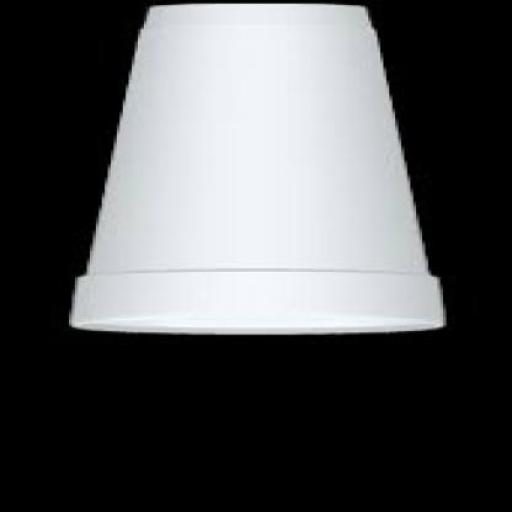paper: (60, 5, 440, 338)
